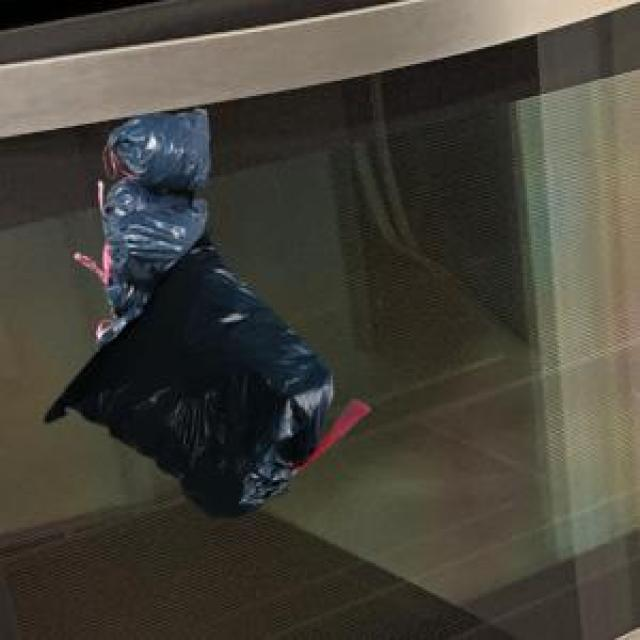Trashbag: (38, 261, 338, 527), (100, 103, 215, 198), (99, 184, 208, 270)
